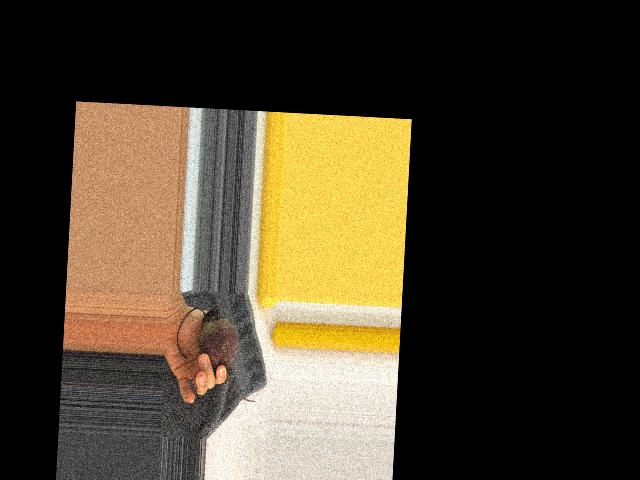beet: (173, 307, 260, 402)
